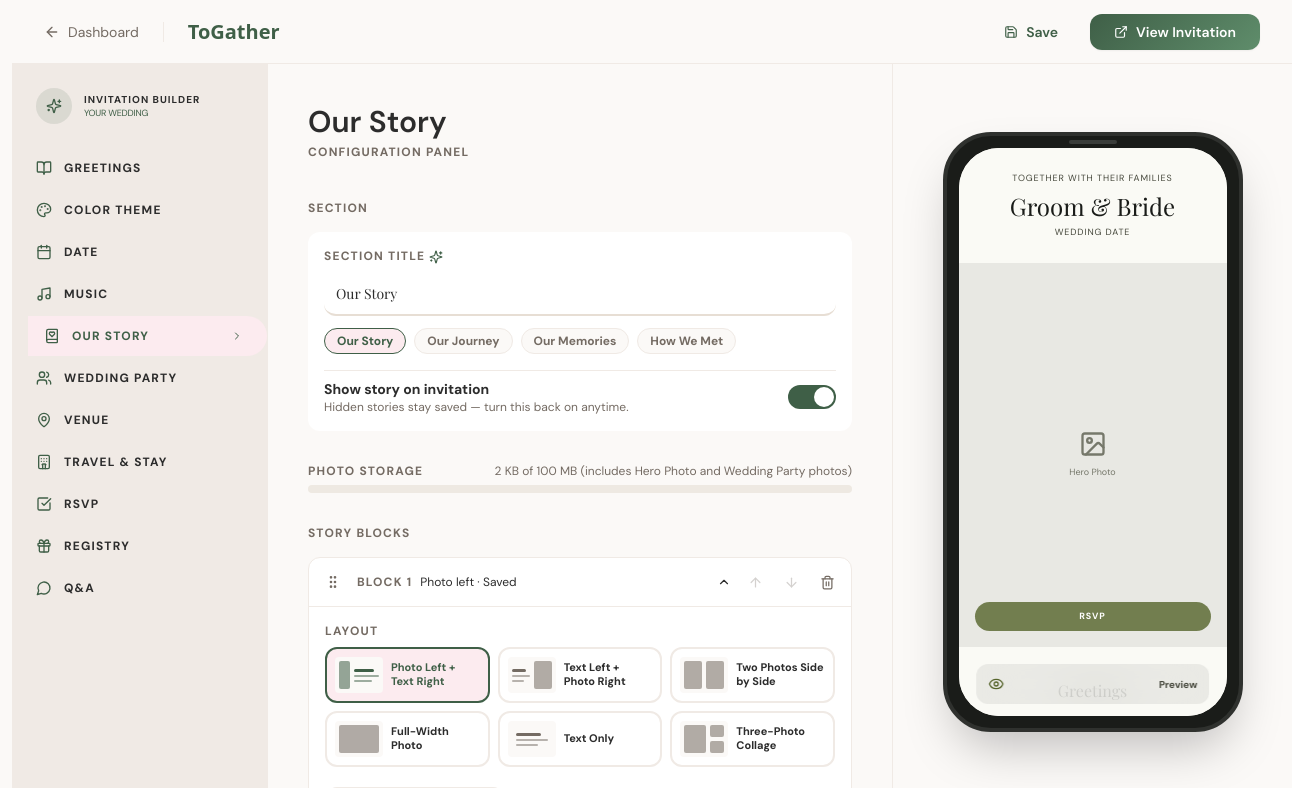
it: Our Story editor › loads saved entries progressively and keeps unchanged ones untouched on save
Check: the heading "Story Blocks" is shown, box [308,525,410,541]
What coordinates should you click on to do the following:
click the button "Save"
I would click on:
 (1031, 32)
Its box is [984,14,1078,50].
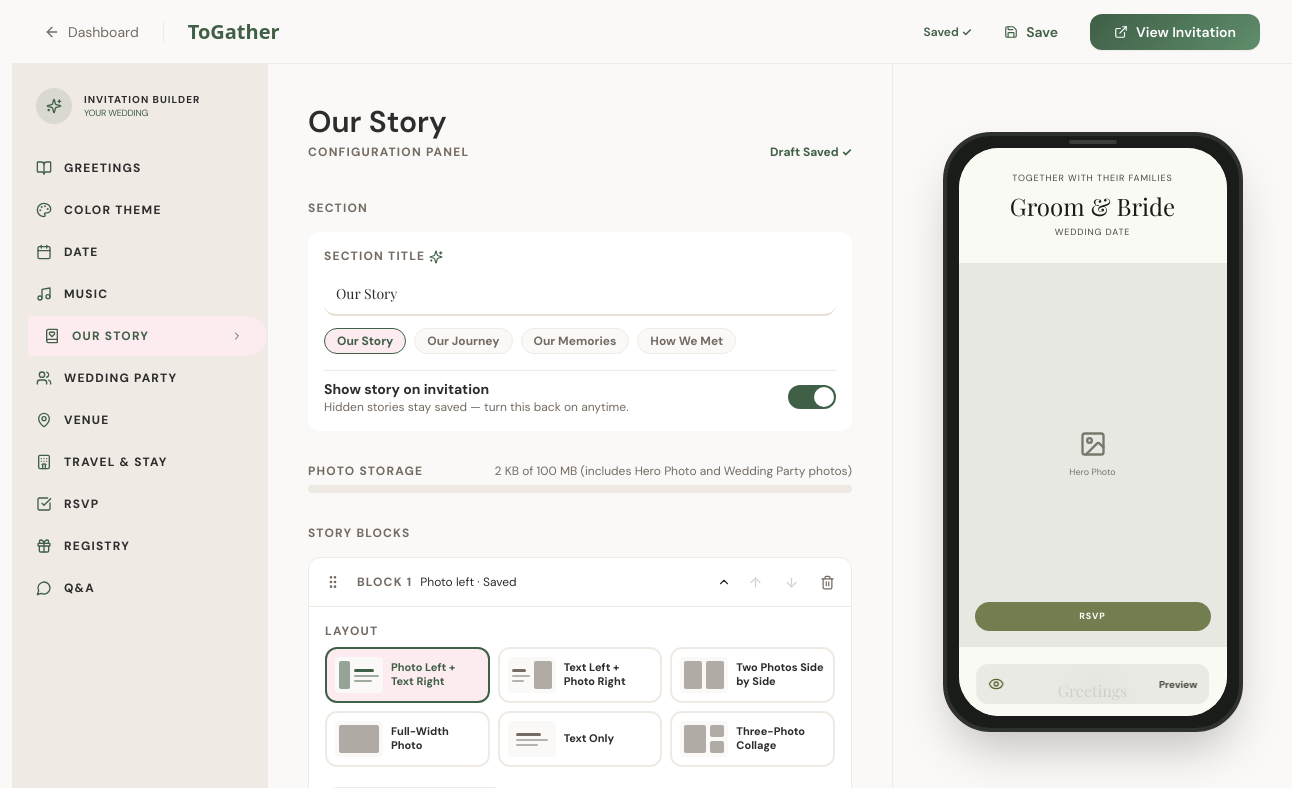
Check: the text "Saved ✓" is shown, box [924,24,972,40]
